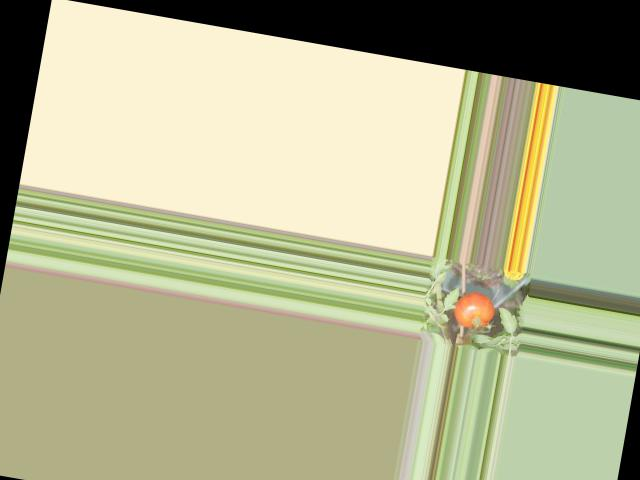tomato: (450, 289, 497, 331)
